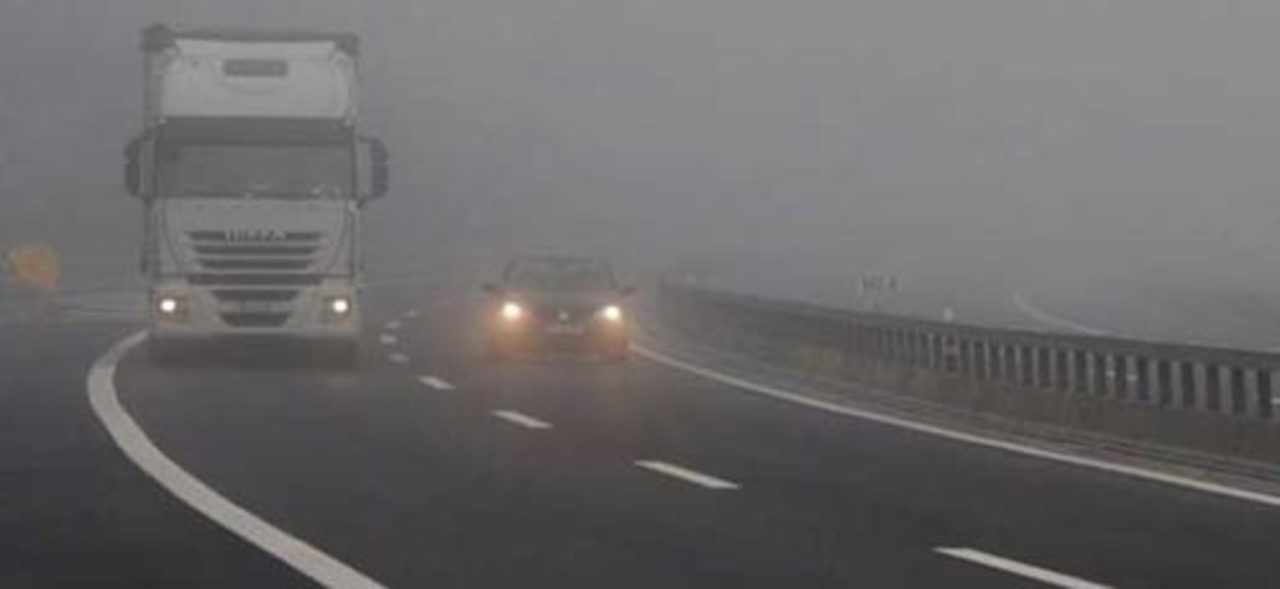car: (485, 252, 631, 362)
truck: (127, 24, 386, 365)
